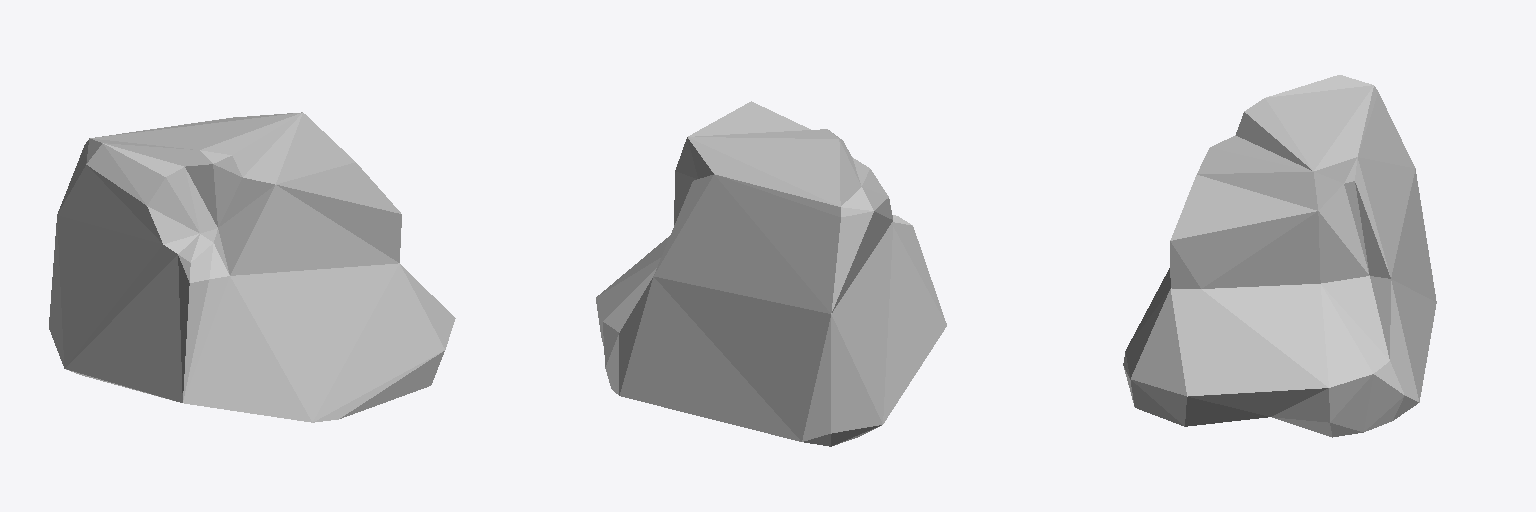
The model's file is Rock2.obj.
3 views of the same model, side by side, from view 1: azimuth 30°, elevation 25°; view 2: azimuth 150°, elevation 25°; view 3: azimuth 270°, elevation 25° (orthographic).
Visible parts, largest first — view 1: Cube; view 2: Cube; view 3: Cube.
Boxes of the visible parts, box(x1,y1,x2,y2) form: Cube: box(49, 112, 455, 422); Cube: box(596, 101, 946, 446); Cube: box(1123, 75, 1436, 437).
Size of the model in its own units: 3.13 by 2.48 by 2.78.